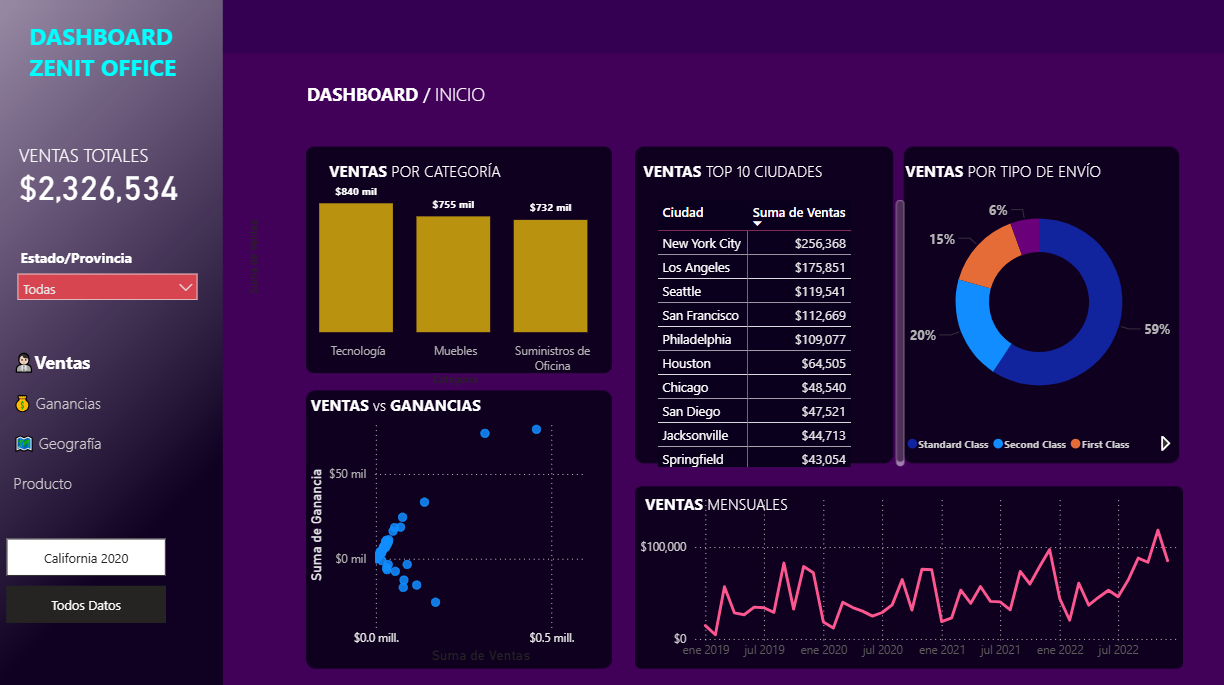

The page's visual inventory and layout, read from the dashboard file:
{"tool":"powerbi","page":{"name":"👨🏻💼Ventas","canvas":[1280,720],"ordinal":0},"visuals":[{"type":"textbox","box":[308.6,86,211,40.8],"z":0},{"type":"textbox","box":[28.4,16,169.4,84.2],"z":1000},{"type":"card","fields":{"Values":["Sum(Supertienda Español.Ventas)"]},"box":[0,157.3,207.2,82.9],"z":2000},{"type":"textbox","box":[15.1,149.8,160.1,34.8],"z":3000},{"type":"clusteredColumnChart","fields":{"Category":["Supertienda Español.Categoria"],"Y":["Sum(Supertienda Español.Ventas)"]},"box":[255.2,180.8,407.8,230.8],"z":4000},{"type":"textbox","box":[317.4,149.8,232.6,62.2],"z":5000},{"type":"lineChart","fields":{"Category":["Supertienda Español.Fecha de Orden.Variación.Jerarquía de fechas.Año","Supertienda Español.Fecha de Orden.Variación.Jerarquía de fechas.Mes"],"Y":["Sum(Supertienda Español.Ventas)"]},"box":[663.1,514.3,572.7,187.4],"z":6000},{"type":"textbox","box":[632,497.3,232.6,62.2],"z":7000},{"type":"pivotTable","fields":{"Values":["Sum(Supertienda Español.Ventas)"],"Rows":["Supertienda Español.Ciudad"]},"box":[681.5,209.4,267.3,287.6],"z":8000},{"type":"donutChart","fields":{"Category":["Supertienda Español.Modo de Envio"],"Y":["Sum(Supertienda Español.Ventas)"]},"box":[941.5,180.6,284.8,305.2],"z":9000},{"type":"textbox","box":[648,149.8,232.6,62.2],"z":10000},{"type":"textbox","box":[929.6,149.4,233.2,61.3],"z":11000},{"type":"scatterChart","fields":{"X":["Sum(Supertienda Español.Ventas)"],"Y":["Sum(Supertienda Español.Ganancia)"],"Category":["Supertienda Español.Estado/Provincia"]},"box":[317,433.1,323.5,268.7],"z":12000},{"type":"textbox","box":[296.6,394.4,233.2,62.3],"z":13000},{"type":"slicer","fields":{"Values":["Supertienda Español.Estado/Provincia"]},"box":[8.6,260.1,207.4,73.1],"z":14000},{"type":"pageNavigator","box":[14.1,367.3,193.8,161],"z":15000},{"type":"bookmarkNavigator","box":[8.4,567.3,166.9,88.1],"z":16000}]}

Visuals, with their boxes in screenshot pixels (x1, y1, x2, y2), scaled from the page's 1280x720 canvas onto the 1224x685 screenshot:
textbox: bbox=(295, 82, 497, 121)
textbox: bbox=(27, 15, 189, 95)
card - Sum(Supertienda Español.Ventas): bbox=(0, 150, 198, 229)
textbox: bbox=(14, 143, 168, 176)
clusteredColumnChart - Supertienda Español.Categoria x Sum(Supertienda Español.Ventas): bbox=(244, 172, 634, 392)
textbox: bbox=(304, 143, 526, 202)
lineChart - Supertienda Español.Fecha de Orden.Variación.Jerarquía de fechas.Año x Supertienda Español.Fecha de Orden.Variación.Jerarquía de fechas.Mes: bbox=(634, 489, 1182, 668)
textbox: bbox=(604, 473, 827, 532)
pivotTable - Sum(Supertienda Español.Ventas) x Supertienda Español.Ciudad: bbox=(652, 199, 907, 473)
donutChart - Supertienda Español.Modo de Envio x Sum(Supertienda Español.Ventas): bbox=(900, 172, 1173, 462)
textbox: bbox=(620, 143, 842, 202)
textbox: bbox=(889, 142, 1112, 200)
scatterChart - Sum(Supertienda Español.Ventas) x Sum(Supertienda Español.Ganancia): bbox=(303, 412, 612, 668)
textbox: bbox=(284, 375, 507, 434)
slicer - Supertienda Español.Estado/Provincia: bbox=(8, 247, 207, 317)
pageNavigator: bbox=(13, 349, 199, 503)
bookmarkNavigator: bbox=(8, 540, 168, 624)
